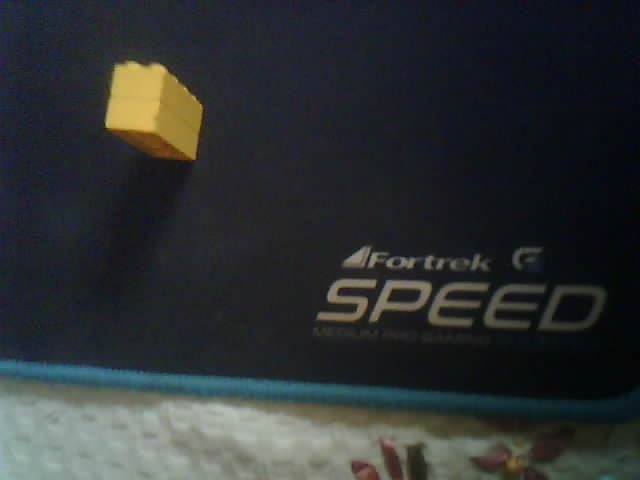lego: (102, 58, 206, 162)
